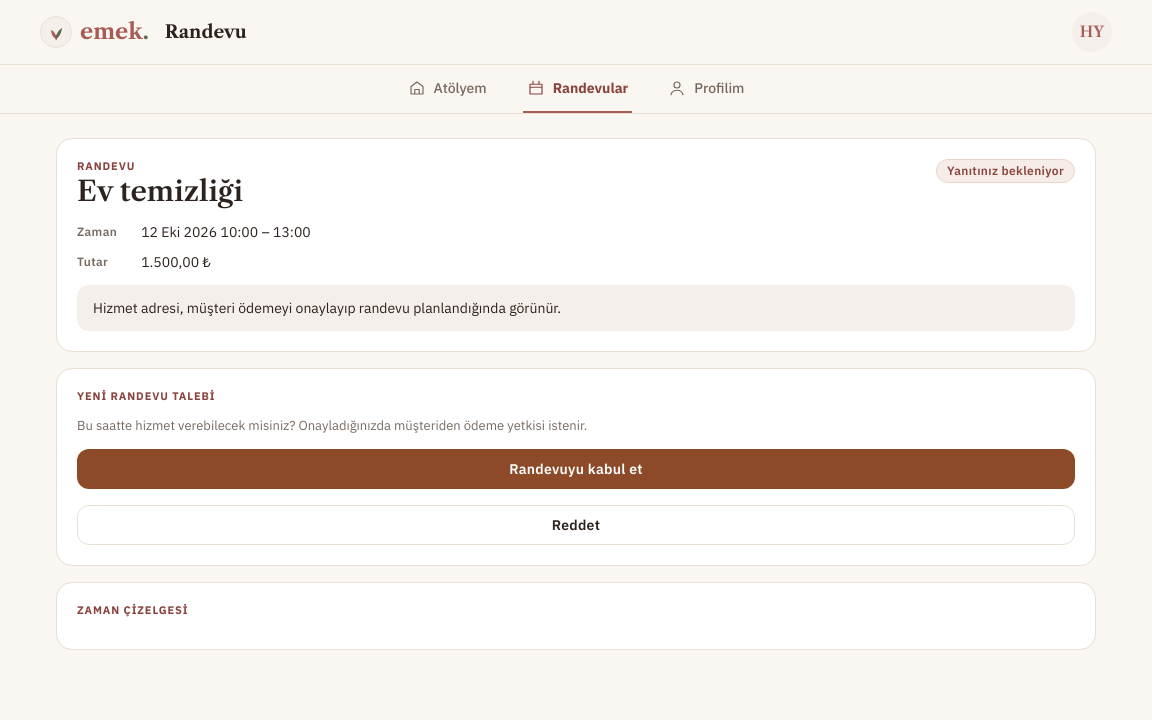
Test: Sağlayıcı randevuları › kabul iki adımlıdır ve Idempotency-Key ile /confirm çağırır
Click the button "Randevuyu kabul et".
click(576, 469)  # box [77,449,1075,489]
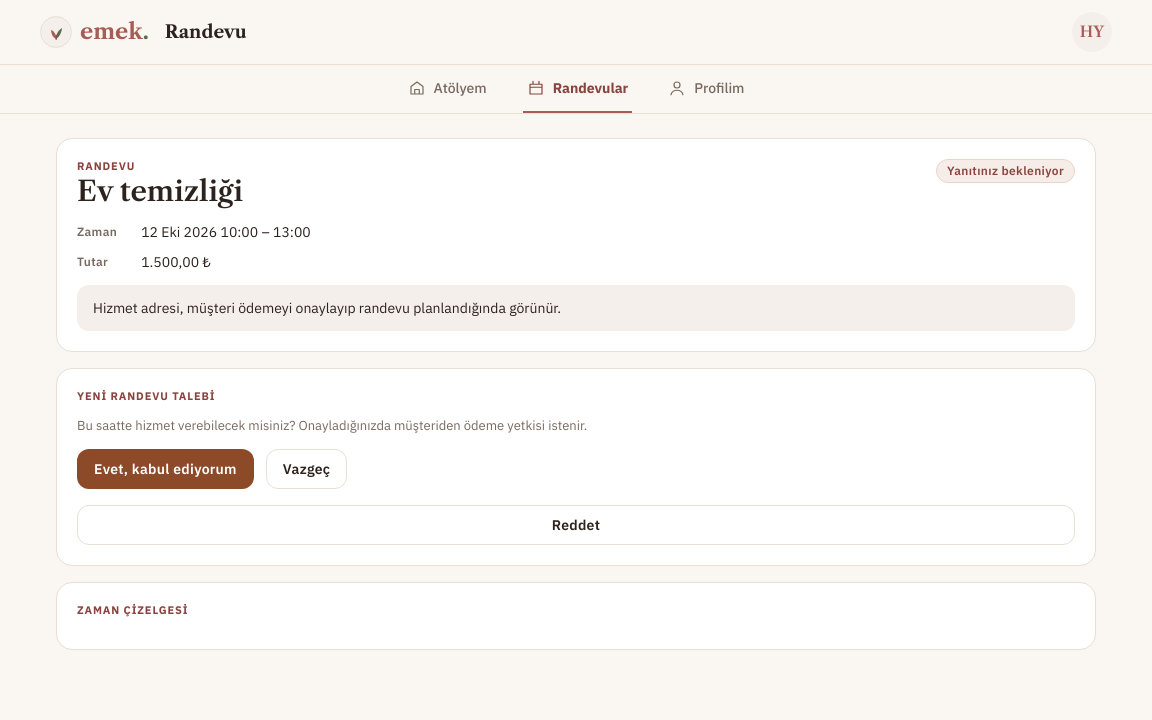
Click the button "Evet, kabul ediyorum".
click(165, 469)  # box [77,449,254,489]
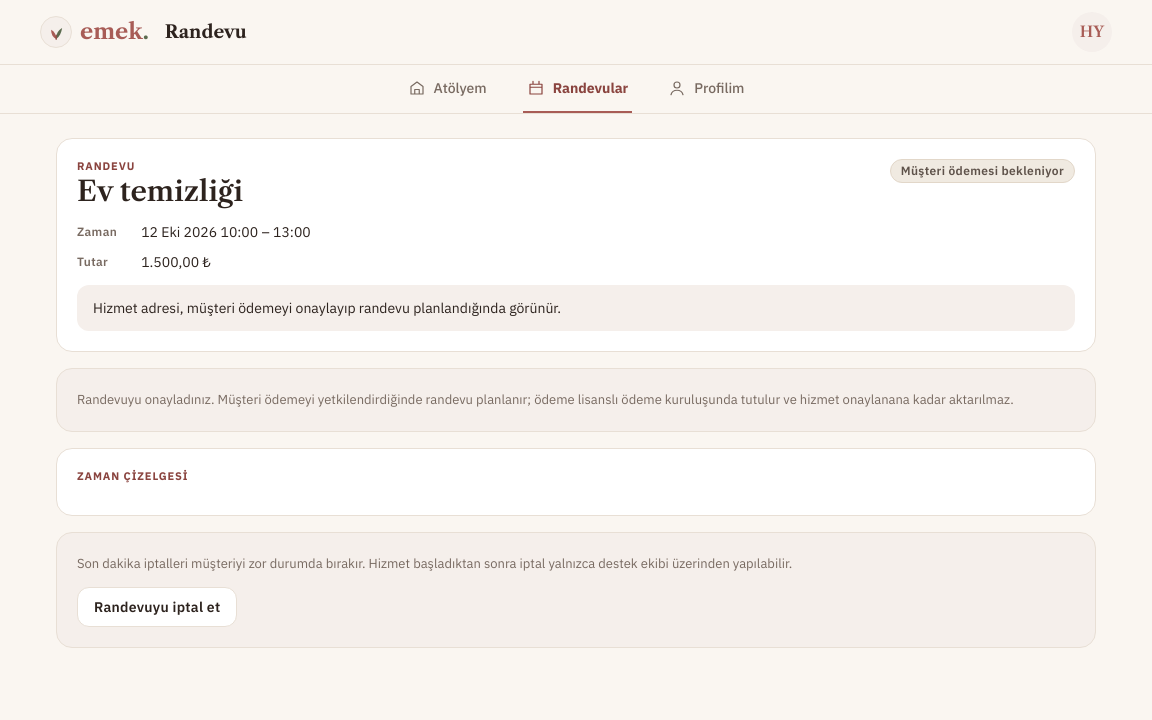
Now the text "Müşteri ödemesi bekleniyor" is shown, box [890,159,1075,183]
